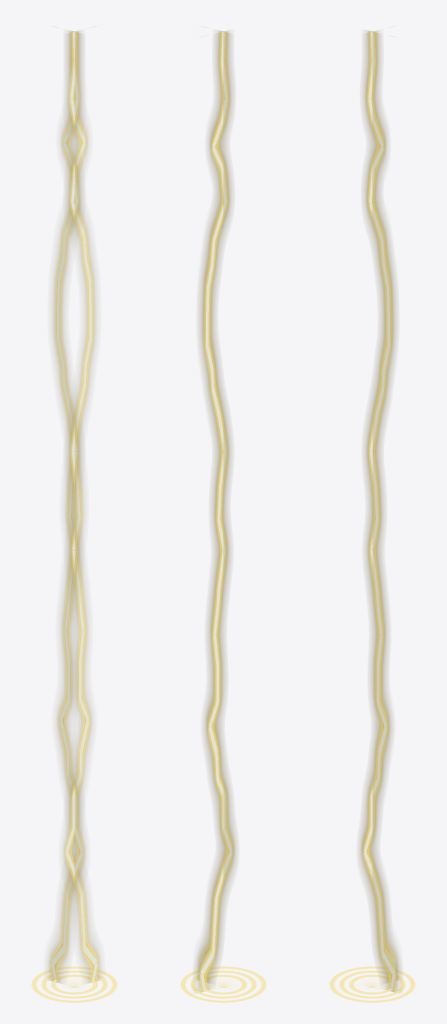
The model's file is fx_sigil_asc.glb.
3 views of the same model, side by side, from view 1: azimuth 30°, elevation 25°; view 2: azimuth 150°, elevation 25°; view 3: azimuth 330°, elevation 25° (orthographic).
Visible parts, largest first — view 1: fx_bolt, fx_impact; view 2: fx_bolt, fx_impact; view 3: fx_bolt, fx_impact.
Boxes of the visible parts, x1,y1,x2,y2 form: fx_bolt: [48, 31, 100, 982]; fx_impact: [31, 966, 117, 1002]; fx_bolt: [195, 31, 236, 991]; fx_impact: [180, 966, 266, 1002]; fx_bolt: [359, 31, 400, 991]; fx_impact: [329, 966, 415, 1002].
Size of the model in its own units: 1 by 12 by 1.
Materials: 2 (2 with a texture image).
